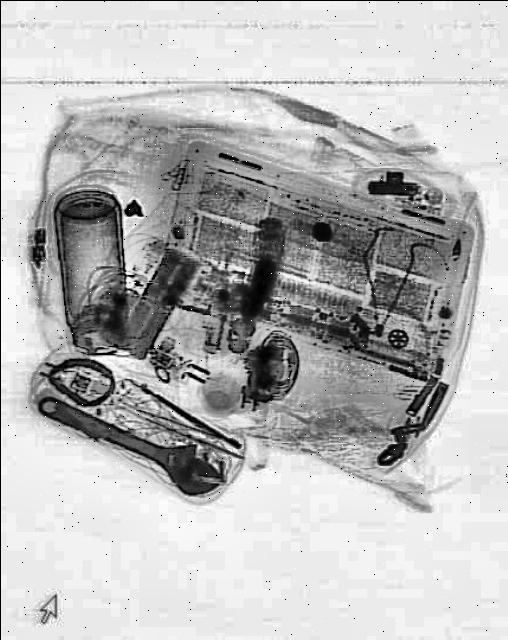Wrench: (31, 373, 230, 505)
